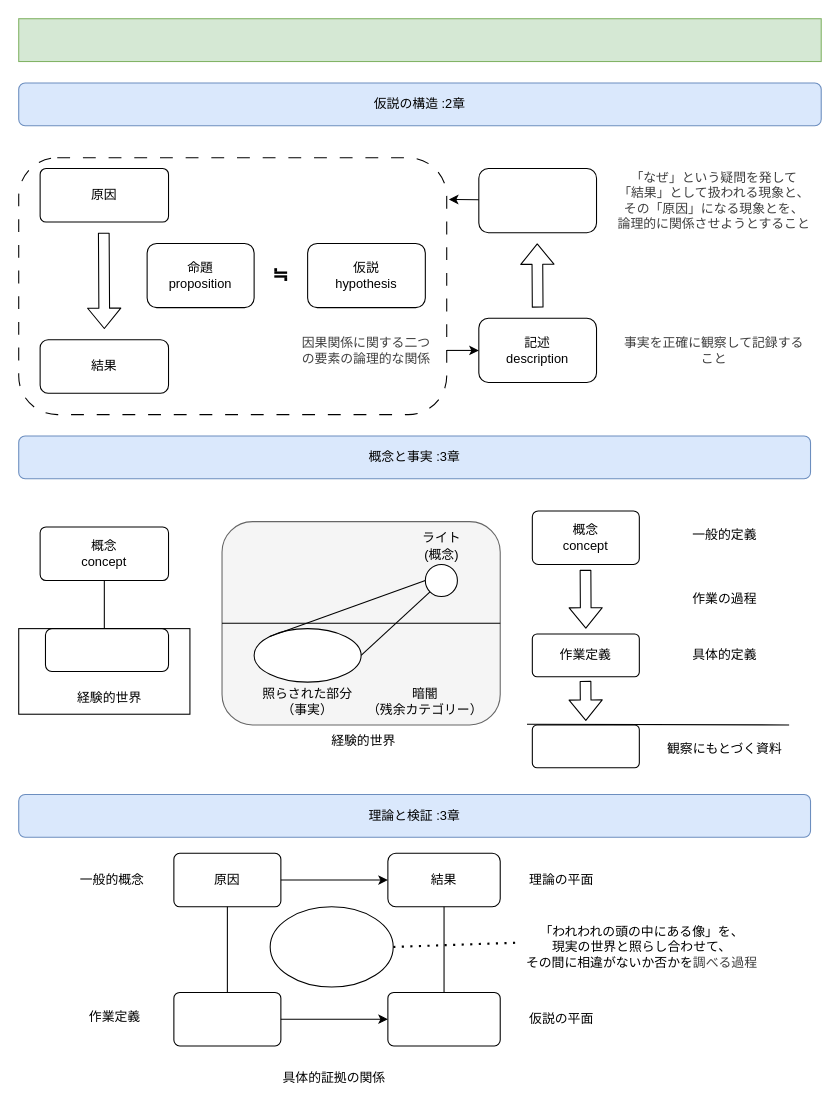
Some shapes in this 840 by 1118 pixel diagram are drawn without their labels. The centre of each missing label's shape, as x and y in pixels:
データ: point (585, 746)
事実 fact: point (106, 649)
創造の方法学: point (419, 40)
原因に対応する データ: point (227, 1018)
検証 verification: point (331, 946)
結果に対応する データ: point (443, 1018)
説明 explanation: point (537, 200)
